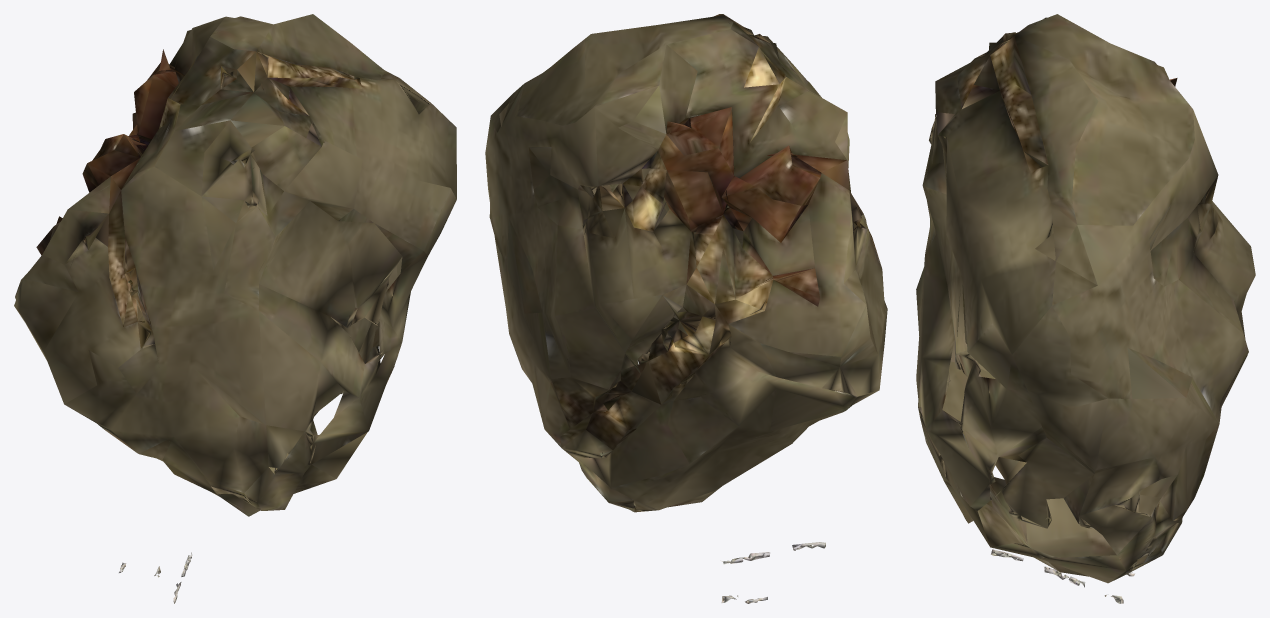
Rendered from veio_cobre_zahar.glb.
The picture shows the model from 3 angles, left to right: view 1: azimuth 30°, elevation 25°; view 2: azimuth 150°, elevation 25°; view 3: azimuth 270°, elevation 25°; orthographic projection. The views are drawn at different scales.
Visible parts, largest first — view 1: geometry_0; view 2: geometry_0; view 3: geometry_0.
Part boxes in pixels (<box>): geometry_0: <box>14,14,456,603</box>; geometry_0: <box>485,14,887,603</box>; geometry_0: <box>916,14,1255,603</box>.
Size of the model in its own units: 0.7764 by 1 by 0.5114.
1 material, 1 textured.
